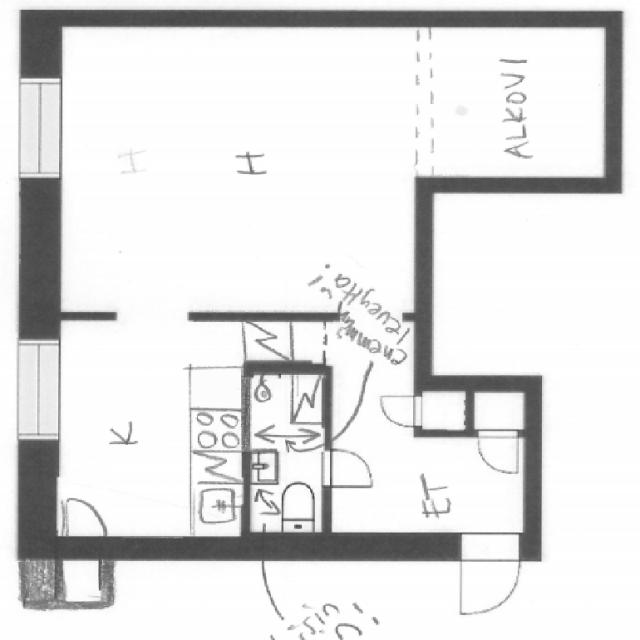door: (448, 541, 529, 621), (54, 492, 111, 545), (320, 444, 377, 493), (475, 428, 522, 476), (376, 387, 426, 432), (232, 147, 266, 178)
window: (12, 330, 69, 452), (12, 65, 66, 192), (52, 550, 116, 614), (104, 305, 197, 326)
zone: (55, 11, 421, 315), (51, 323, 240, 549), (412, 25, 612, 182), (332, 427, 538, 551), (244, 370, 330, 542), (52, 548, 116, 614)
